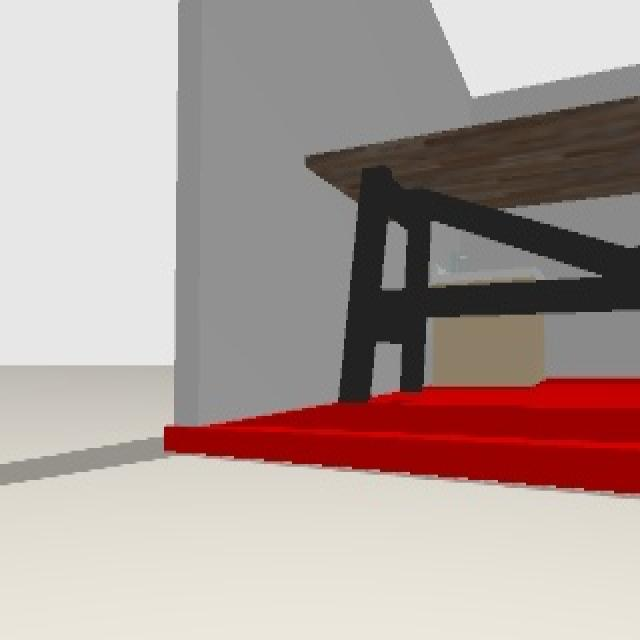dining: (302, 91, 640, 400)
